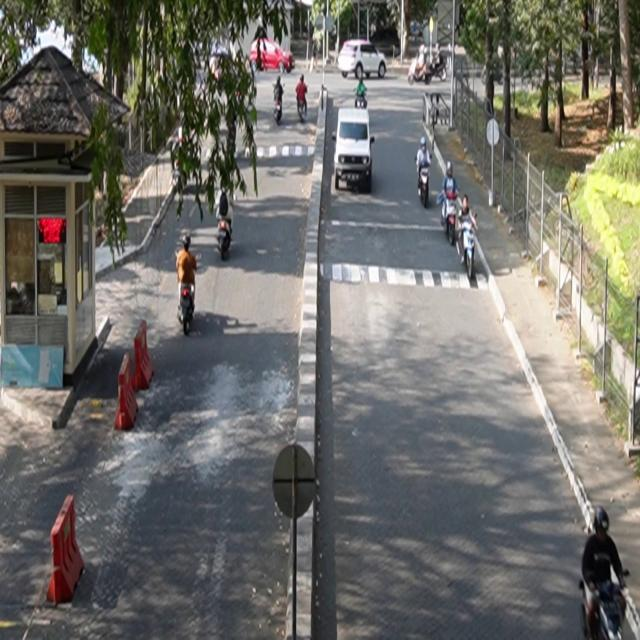car: (338, 39, 388, 80), (251, 38, 296, 74)
